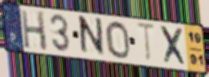3: (49, 14, 70, 53)
H: (20, 9, 50, 53)
N: (79, 14, 106, 58)
O: (104, 20, 132, 60)
T: (135, 21, 157, 66)
X: (158, 25, 189, 68)
